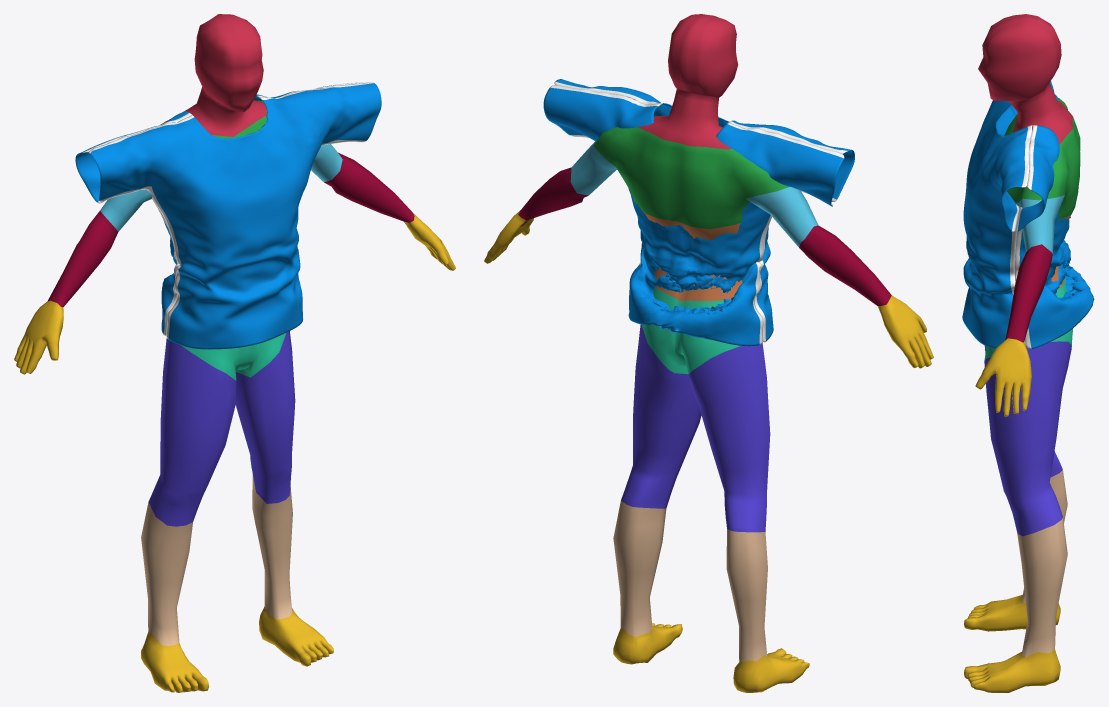
3 views of the same model, side by side, from view 1: azimuth 30°, elevation 25°; view 2: azimuth 150°, elevation 25°; view 3: azimuth 270°, elevation 25° (orthographic). The views are drawn at different scales.
Parts seen in each view (by area): view 1: body, T-shirt; view 2: body, T-shirt; view 3: body, T-shirt.
Boxes of the visible parts, x1,y1,x2,y2 form: body: (14,14,455,692); T-shirt: (75,82,381,349); body: (484,14,933,692); T-shirt: (543,79,854,346); body: (964,14,1080,692); T-shirt: (962,81,1094,348).
Bounding box in the file's own units: 1.24 × 1.75 × 0.3289.
